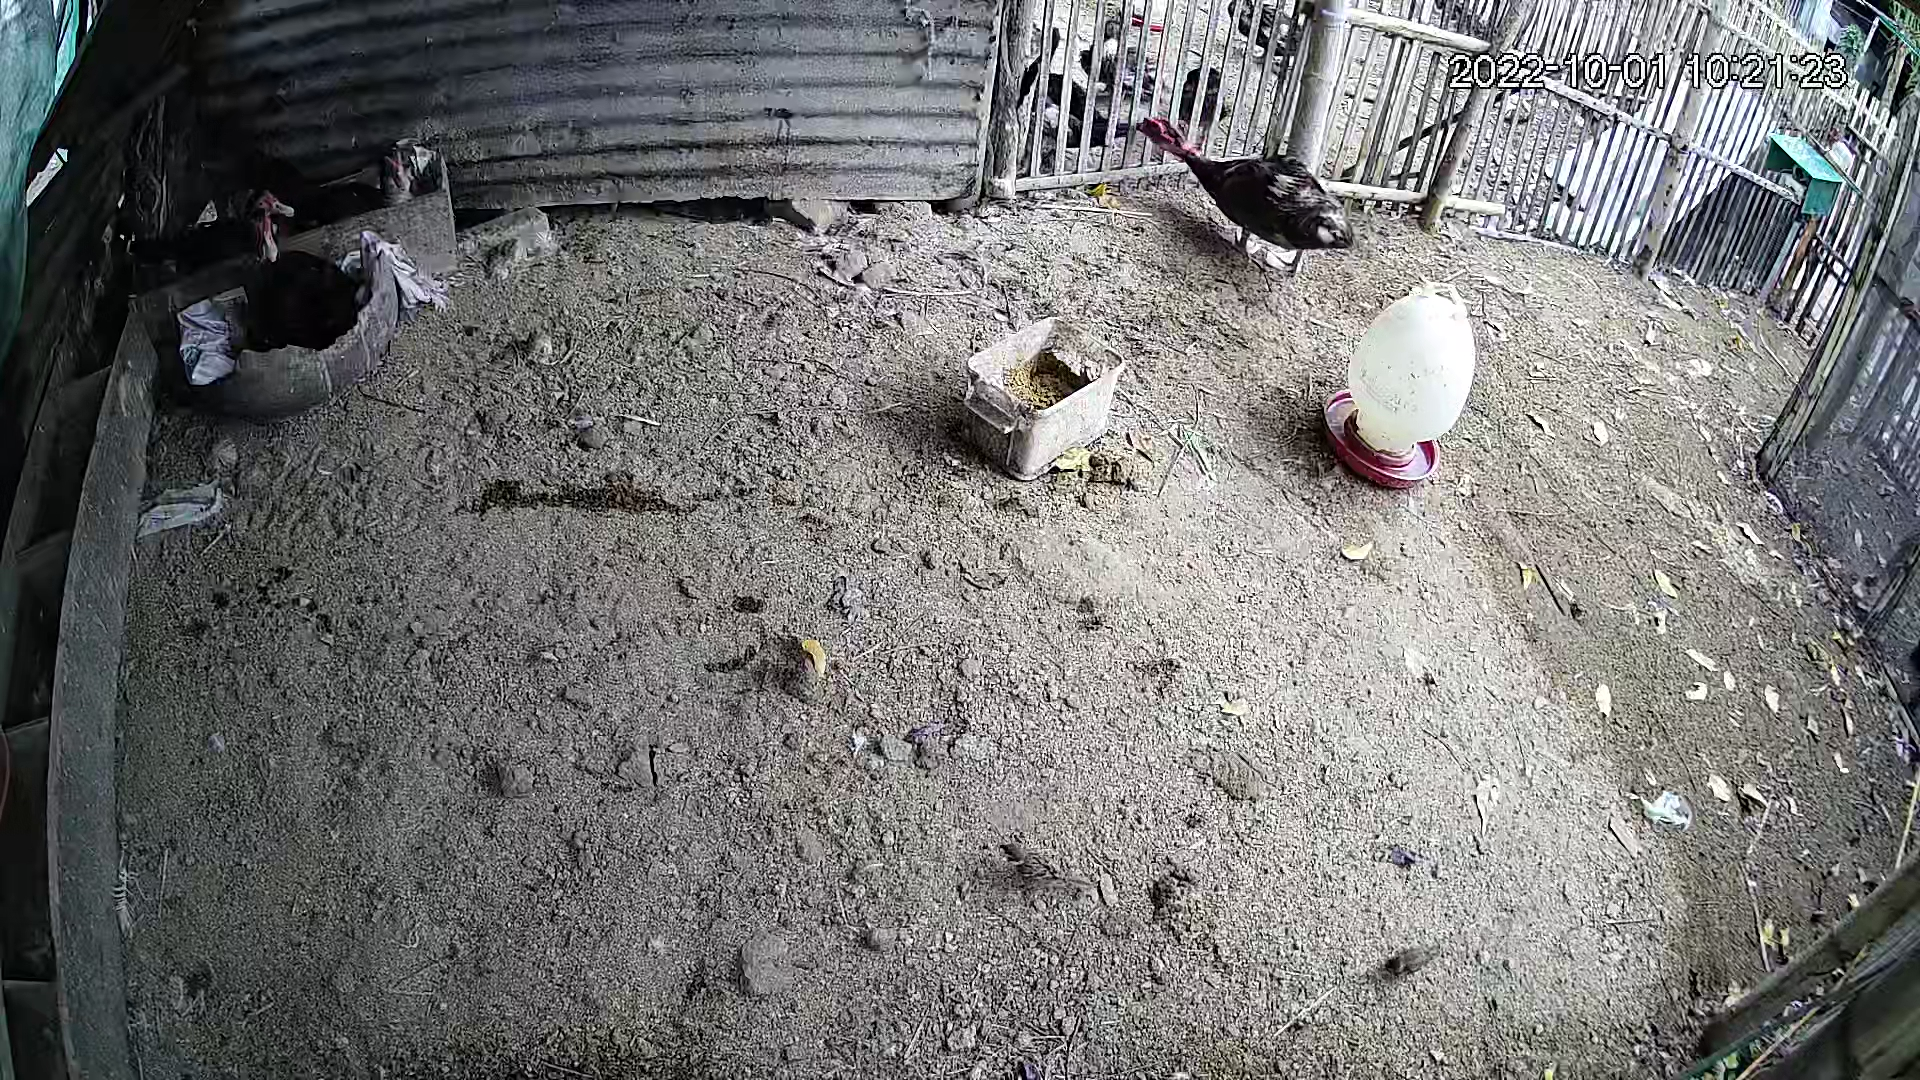Mengeram: (141, 116, 458, 398)
